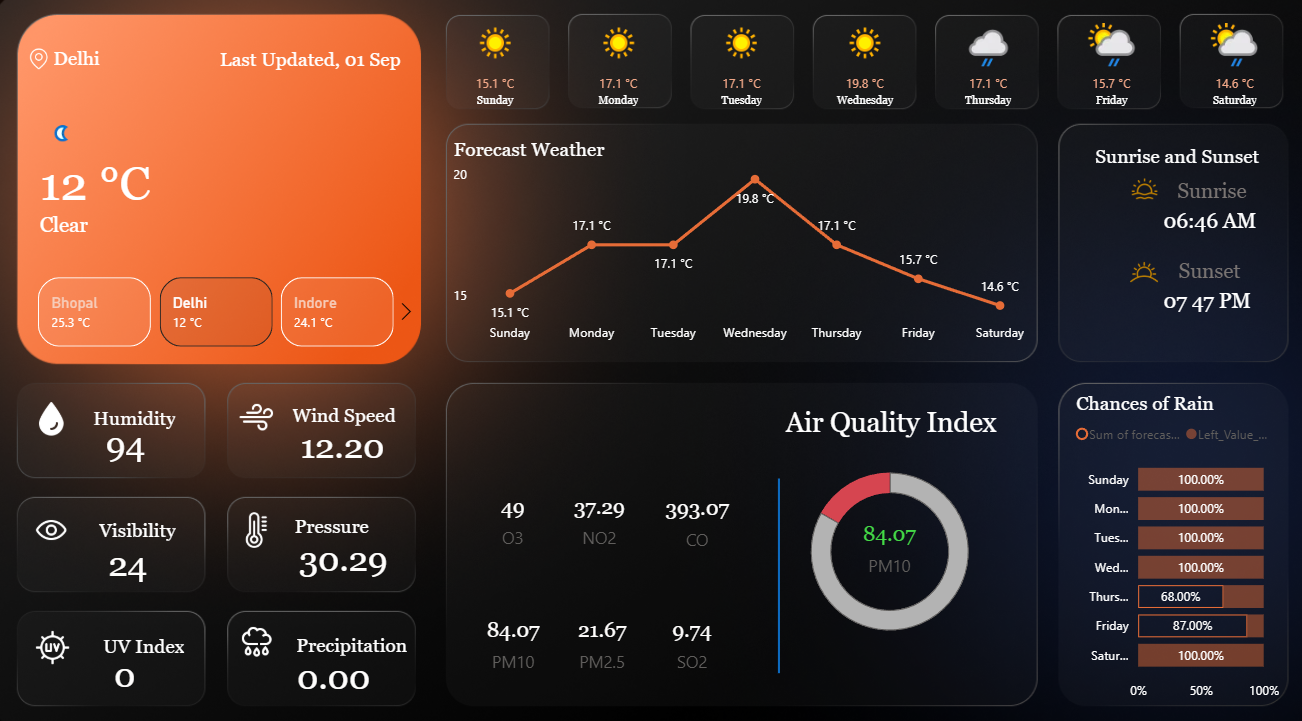

Layout of this report page (visuals, bound fields, positions):
{"tool":"powerbi","page":{"name":"Page 1","canvas":[1280,720],"ordinal":0},"visuals":[{"type":"advancedSlicerVisual","fields":{"Values":["Location.location.name"]},"box":[21,270.9,395.1,77.4],"z":0},{"type":"shape","box":[46.7,145.5,171.5,79.6],"z":1000},{"type":"shape","box":[46.6,196.2,324.2,58.2],"z":2000},{"type":"shape","box":[207.2,41.2,188,49.4],"z":3000},{"type":"shape","box":[60.4,43.9,102.9,42.5],"z":4000},{"type":"image","box":[22,50.8,49.4,30.2],"z":5000},{"type":"cardVisual","fields":{"Data":["Min(Current.current.condition.icon)"]},"box":[0,94.8,111.4,79.8],"z":6000},{"type":"image","box":[36.4,497.9,44.3,44.3],"z":7000},{"type":"image","box":[233.9,388.8,44.3,45.8],"z":8000},{"type":"image","box":[36.4,390.4,44.3,44.3],"z":9000},{"type":"image","box":[233.9,497.9,44.3,44.3],"z":10000},{"type":"image","box":[233.9,605.4,45,45],"z":11000},{"type":"image","box":[37.9,611.7,44.3,44.3],"z":12000},{"type":"shape","box":[77.5,387.3,101.2,50.6],"z":13000},{"type":"shape","box":[85.4,607,101.2,50.6],"z":14000},{"type":"shape","box":[289.3,605.4,112.2,50.6],"z":15000},{"type":"shape","box":[276.6,491.6,88.5,50.6],"z":16000},{"type":"shape","box":[93.3,494.7,85.4,50.6],"z":17000},{"type":"shape","box":[289.3,384.1,101.2,50.6],"z":18000},{"type":"card","fields":{"Values":["Sum(Current.current.humidity)"]},"box":[85.4,399.9,88.5,74.3],"z":19000},{"type":"card","fields":{"Values":["Sum(Current.current.wind_kph)"]},"box":[286,405.7,106.4,64.8],"z":20000},{"type":"card","fields":{"Values":["Sum(Current.current.vis_km)"]},"box":[96.4,520,71.1,64.8],"z":21000},{"type":"card","fields":{"Values":["Sum(Current.current.pressure_in)"]},"box":[289.3,509,101.2,75.9],"z":22000},{"type":"card","fields":{"Values":["Sum(Current.current.uv)"]},"box":[90.1,633.8,77.5,52.2],"z":23000},{"type":"card","fields":{"Values":["Sum(Current.current.precip_mm)"]},"box":[289.3,633.8,82.2,55.3],"z":24000},{"type":"advancedSlicerVisual","fields":{"Values":["Forecast_Day.Day_Name"]},"box":[429.9,17.4,828.3,124.9],"z":25000},{"type":"lineChart","title":"Forecast Weather","fields":{"Y":["Sum(Forecast_Day.forecast.forecastday.day.avgtemp_c)"],"Category":["Forecast_Day.Day_Name"]},"box":[441,142.3,569,205.5],"z":26000},{"type":"shape","box":[1052.7,134.4,183.4,50.6],"z":27000},{"type":"shape","box":[1131.7,196,102.7,52.2],"z":28000},{"type":"shape","box":[1146,241.8,90.1,56.9],"z":29000},{"type":"shape","box":[1131.7,276.6,104.3,44.3],"z":30000},{"type":"shape","box":[1144.4,173.9,75.9,37.9],"z":31000},{"type":"image","box":[1081.2,173.9,64.8,34.8],"z":32000},{"type":"image","box":[1084.3,248.2,56.9,45.8],"z":33000},{"type":"hundredPercentStackedBarChart","title":"Chances of Rain","fields":{"Category":["Forecast_Day.Day_Name"],"Y":["Sum(Forecast_Day.forecast.forecastday.day.daily_chance_of_rain)","_Measures.Left_Value_Rain"]},"box":[1042.6,387.4,206.2,306],"z":34000},{"type":"shape","box":[734.9,390.8,267.7,49.9],"z":35000},{"type":"card","fields":{"Values":["Sum(Current.current.air_quality.co)"]},"box":[628.5,465.6,106.4,89.8],"z":36000},{"type":"card","fields":{"Values":["Sum(Current.current.air_quality.o3)"]},"box":[457.3,463.9,93.1,89.8],"z":37000},{"type":"card","fields":{"Values":["Sum(Current.current.air_quality.so2)"]},"box":[628.5,583.6,96.4,89.8],"z":38000},{"type":"card","fields":{"Values":["Sum(Current.current.air_quality.pm2_5)"]},"box":[538.7,583.6,101.4,89.8],"z":39000},{"type":"card","fields":{"Values":["Sum(Forecast_Day.forecast.forecastday.day.air_quality.pm10)"]},"box":[460.6,583.6,86.5,89.8],"z":40000},{"type":"card","fields":{"Values":["Sum(Current.current.air_quality.no2)"]},"box":[547.1,467.2,81.5,84.8],"z":41000},{"type":"shape","box":[734.9,470.6,51.5,187.9],"z":42000},{"type":"card","fields":{"Values":["Sum(Forecast_Day.forecast.forecastday.day.air_quality.pm10)"]},"box":[824.2,491.3,86.5,89.5],"z":43000},{"type":"donutChart","fields":{"Y":["_Measures.Left_Value_PM10","Sum(Forecast_Day.forecast.forecastday.day.air_quality.pm10)"]},"box":[767.5,439.6,200.6,204.1],"z":43001}]}

Visuals, with their boxes in screenshot pixels (x1, y1, x2, y2), scaled from the page's 1280x720 canvas onto the 1302x721 screenshot:
advancedSlicerVisual - Location.location.name: Rect(21, 271, 423, 349)
shape: Rect(48, 146, 222, 225)
shape: Rect(47, 196, 377, 255)
shape: Rect(211, 41, 402, 91)
shape: Rect(61, 44, 166, 87)
image: Rect(22, 51, 73, 81)
cardVisual - Min(Current.current.condition.icon): Rect(0, 95, 113, 175)
image: Rect(37, 499, 82, 543)
image: Rect(238, 389, 283, 435)
image: Rect(37, 391, 82, 435)
image: Rect(238, 499, 283, 543)
image: Rect(238, 606, 284, 651)
image: Rect(39, 613, 84, 657)
shape: Rect(79, 388, 182, 439)
shape: Rect(87, 608, 190, 659)
shape: Rect(294, 606, 408, 657)
shape: Rect(281, 492, 371, 543)
shape: Rect(95, 495, 182, 546)
shape: Rect(294, 385, 397, 435)
card - Sum(Current.current.humidity): Rect(87, 400, 177, 475)
card - Sum(Current.current.wind_kph): Rect(291, 406, 399, 471)
card - Sum(Current.current.vis_km): Rect(98, 521, 170, 586)
card - Sum(Current.current.pressure_in): Rect(294, 510, 397, 586)
card - Sum(Current.current.uv): Rect(92, 635, 170, 687)
card - Sum(Current.current.precip_mm): Rect(294, 635, 378, 690)
advancedSlicerVisual - Forecast_Day.Day_Name: Rect(437, 17, 1280, 142)
"Forecast Weather" lineChart: Rect(449, 142, 1027, 348)
shape: Rect(1071, 135, 1257, 185)
shape: Rect(1151, 196, 1256, 249)
shape: Rect(1166, 242, 1257, 299)
shape: Rect(1151, 277, 1257, 321)
shape: Rect(1164, 174, 1241, 212)
image: Rect(1100, 174, 1166, 209)
image: Rect(1103, 249, 1161, 294)
"Chances of Rain" hundredPercentStackedBarChart: Rect(1061, 388, 1270, 694)
shape: Rect(748, 391, 1020, 441)
card - Sum(Current.current.air_quality.co): Rect(639, 466, 748, 556)
card - Sum(Current.current.air_quality.o3): Rect(465, 465, 560, 554)
card - Sum(Current.current.air_quality.so2): Rect(639, 584, 737, 674)
card - Sum(Current.current.air_quality.pm2_5): Rect(548, 584, 651, 674)
card - Sum(Forecast_Day.forecast.forecastday.day.air_quality.pm10): Rect(469, 584, 557, 674)
card - Sum(Current.current.air_quality.no2): Rect(557, 468, 639, 553)
shape: Rect(748, 471, 800, 659)
card - Sum(Forecast_Day.forecast.forecastday.day.air_quality.pm10): Rect(838, 492, 926, 582)
donutChart - _Measures.Left_Value_PM10 x Sum(Forecast_Day.forecast.forecastday.day.air_quality.pm10): Rect(781, 440, 985, 645)
